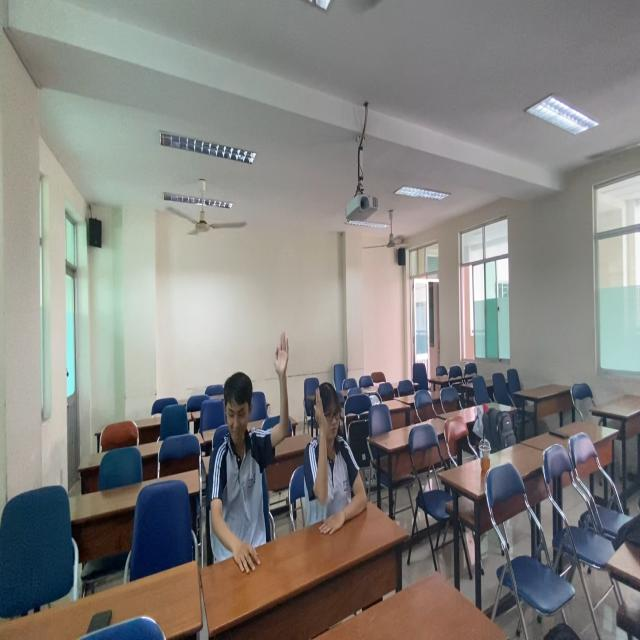raise_hand: (206, 320, 294, 580), (302, 377, 369, 547)
